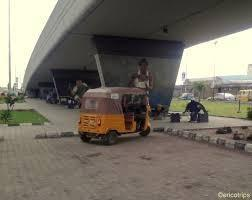keke: (76, 86, 151, 147)
